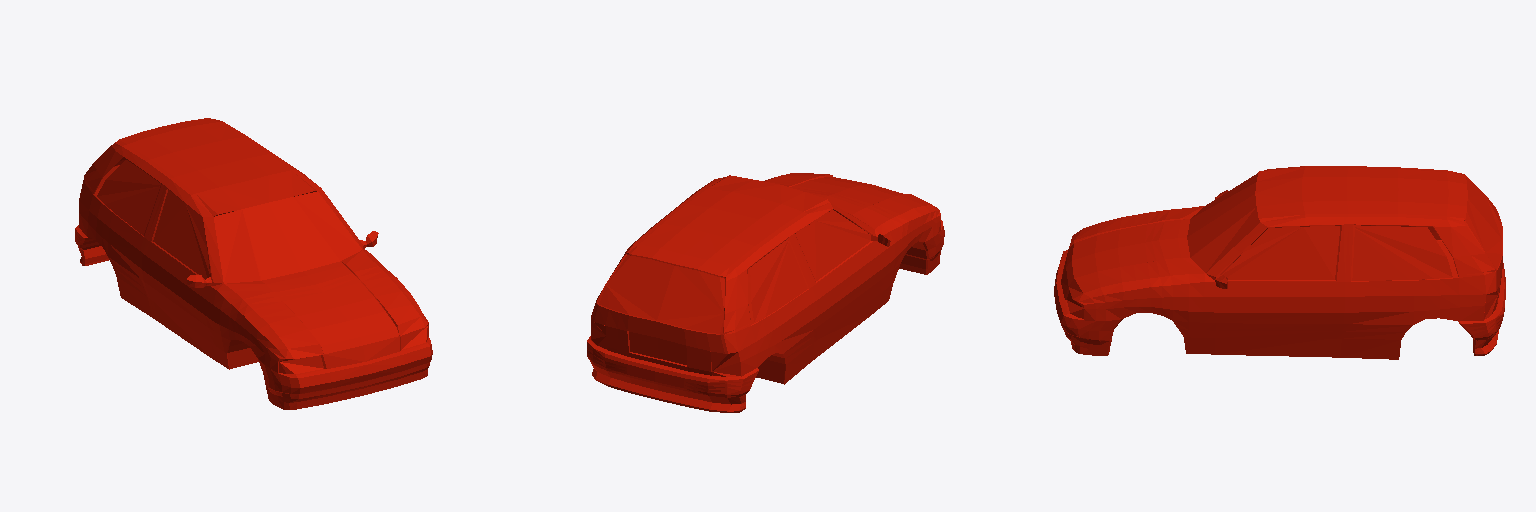
File: simple_car_nowheels.obj
3 renders of one model, left to right at view 1: azimuth 30°, elevation 25°; view 2: azimuth 150°, elevation 25°; view 3: azimuth 270°, elevation 25°, orthographic.
Parts seen in each view (by area): view 1: FinestriniAnt_Plane.004; view 2: FinestriniAnt_Plane.004; view 3: FinestriniAnt_Plane.004.
Part boxes in pixels (bbox=[...]): FinestriniAnt_Plane.004: bbox=[75, 118, 432, 409]; FinestriniAnt_Plane.004: bbox=[587, 173, 944, 412]; FinestriniAnt_Plane.004: bbox=[1054, 166, 1505, 359].
Bounding box in the file's own units: 2.43 × 1.62 × 4.95.